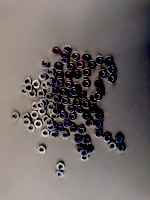nut: (104, 57, 114, 66), (94, 79, 103, 89), (87, 61, 97, 70), (82, 53, 91, 63), (82, 68, 91, 78), (52, 46, 61, 56), (41, 60, 50, 70), (25, 83, 34, 93), (59, 111, 68, 121), (22, 113, 32, 122), (108, 75, 117, 84), (98, 70, 107, 79), (82, 80, 91, 89), (73, 71, 82, 80), (60, 50, 69, 59), (54, 62, 63, 71), (55, 70, 64, 79), (46, 68, 55, 77), (56, 79, 65, 88), (11, 112, 20, 121), (41, 81, 50, 90), (23, 78, 32, 87), (28, 89, 37, 98), (38, 145, 47, 154), (116, 135, 125, 144), (103, 134, 112, 143), (95, 121, 104, 130), (95, 112, 104, 121), (76, 145, 85, 154), (74, 135, 83, 144), (94, 92, 103, 101), (73, 98, 82, 107), (51, 86, 60, 95), (53, 95, 62, 104), (61, 97, 70, 106), (63, 119, 72, 128), (52, 107, 61, 116), (56, 103, 65, 112), (47, 103, 56, 112), (31, 102, 40, 111), (22, 118, 31, 127), (30, 111, 39, 120), (34, 120, 43, 129), (96, 56, 104, 66), (72, 52, 80, 62), (67, 62, 75, 72), (109, 141, 117, 151), (70, 87, 78, 97), (45, 93, 55, 101), (76, 61, 85, 69), (64, 46, 72, 55), (64, 71, 72, 80), (39, 72, 47, 81), (48, 76, 56, 85), (45, 80, 54, 88), (32, 80, 40, 89), (20, 87, 28, 96), (37, 90, 46, 98), (55, 170, 64, 178), (95, 130, 103, 139), (86, 119, 94, 128), (78, 126, 86, 135), (83, 137, 91, 146), (86, 146, 94, 155), (81, 153, 89, 162), (70, 125, 78, 134), (89, 106, 97, 115), (97, 88, 105, 97), (82, 100, 90, 109), (78, 91, 87, 99), (59, 88, 68, 96), (67, 91, 76, 99), (67, 105, 76, 113), (83, 112, 91, 121), (69, 113, 77, 122), (56, 124, 64, 133), (50, 131, 59, 139), (42, 129, 50, 138), (38, 108, 47, 116), (26, 124, 35, 132), (108, 66, 116, 74), (61, 56, 69, 64), (65, 81, 73, 89), (57, 163, 65, 171), (118, 145, 126, 153), (81, 149, 89, 157), (62, 131, 70, 139), (90, 95, 98, 103), (74, 84, 82, 92), (76, 107, 84, 115), (45, 119, 53, 127), (40, 99, 48, 107), (42, 116, 50, 124), (37, 101, 44, 110), (48, 124, 55, 132), (50, 114, 58, 121)
